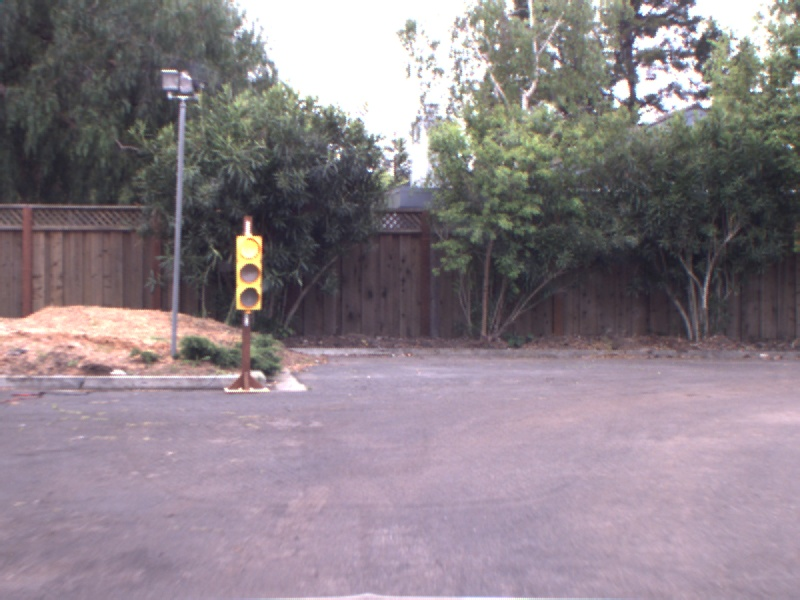red: (230, 223, 266, 313)
